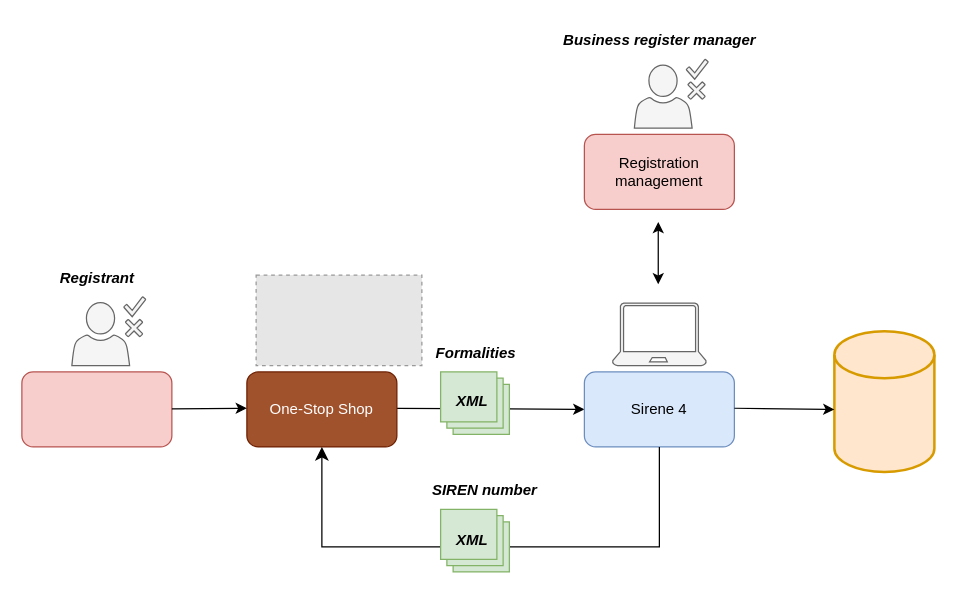
The diagram is 958 pixels wide and 594 high, and some of its shapes have lost their labels. Grey dashed boxes stand in for pictures. The shapes that lost their labels are listed below. From the top down, each one's box as (x1, y1, x2, y2) in pixels, then its label:
(21, 371, 172, 447): Registration application
(832, 329, 935, 472): Sirene 4 database
